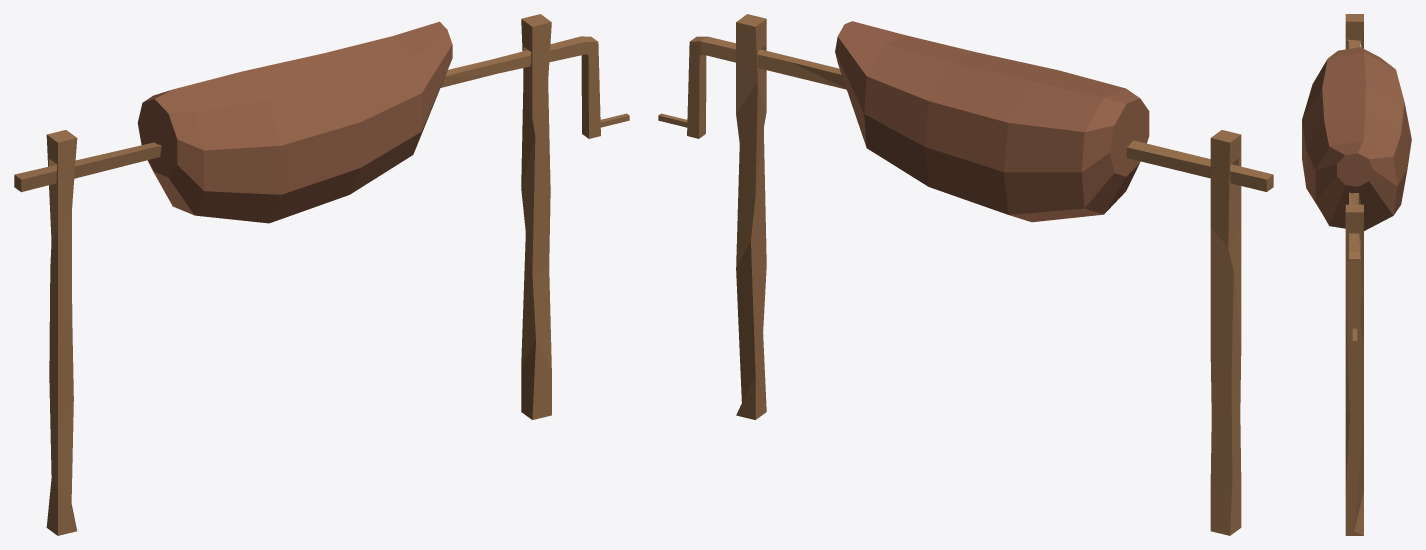
The model's file is GrilledPig_1.fbx.
The picture shows the model from 3 angles, left to right: view 1: azimuth 30°, elevation 25°; view 2: azimuth 150°, elevation 25°; view 3: azimuth 270°, elevation 25°; orthographic projection. The views are drawn at different scales.
Visible parts, largest first — view 1: GrilledMeat_mesh; view 2: GrilledMeat_mesh; view 3: GrilledMeat_mesh.
Boxes of the visible parts, x1,y1,x2,y2 form: GrilledMeat_mesh: [14, 14, 629, 535]; GrilledMeat_mesh: [658, 14, 1273, 535]; GrilledMeat_mesh: [1302, 14, 1411, 535].
Size of the model in its own units: 207 by 134 by 39.11.
